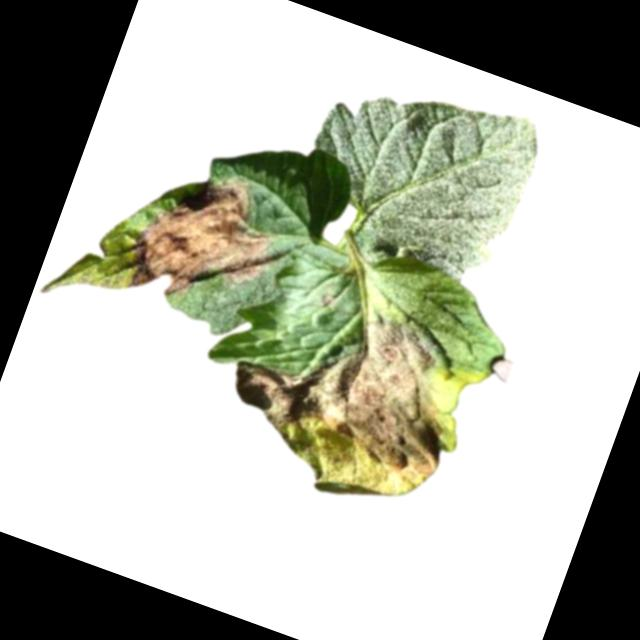Late_blight: (205, 278, 479, 527), (119, 151, 293, 331)
